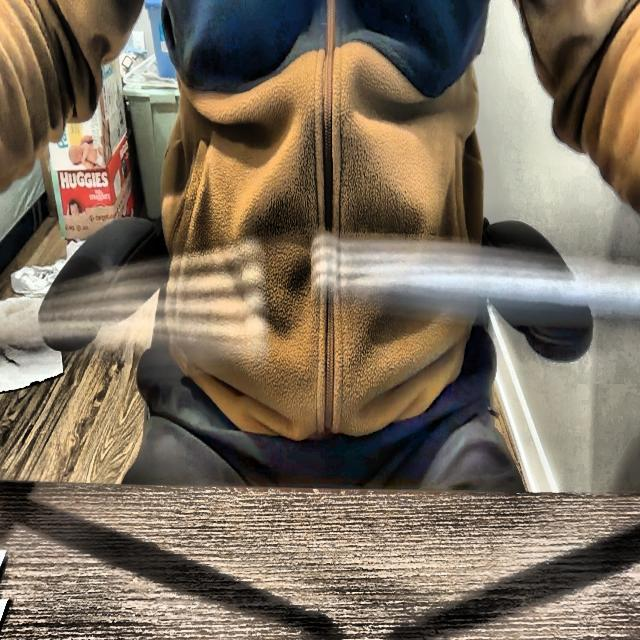Drumstick-Heads: (240, 226, 273, 366), (308, 223, 345, 309)
